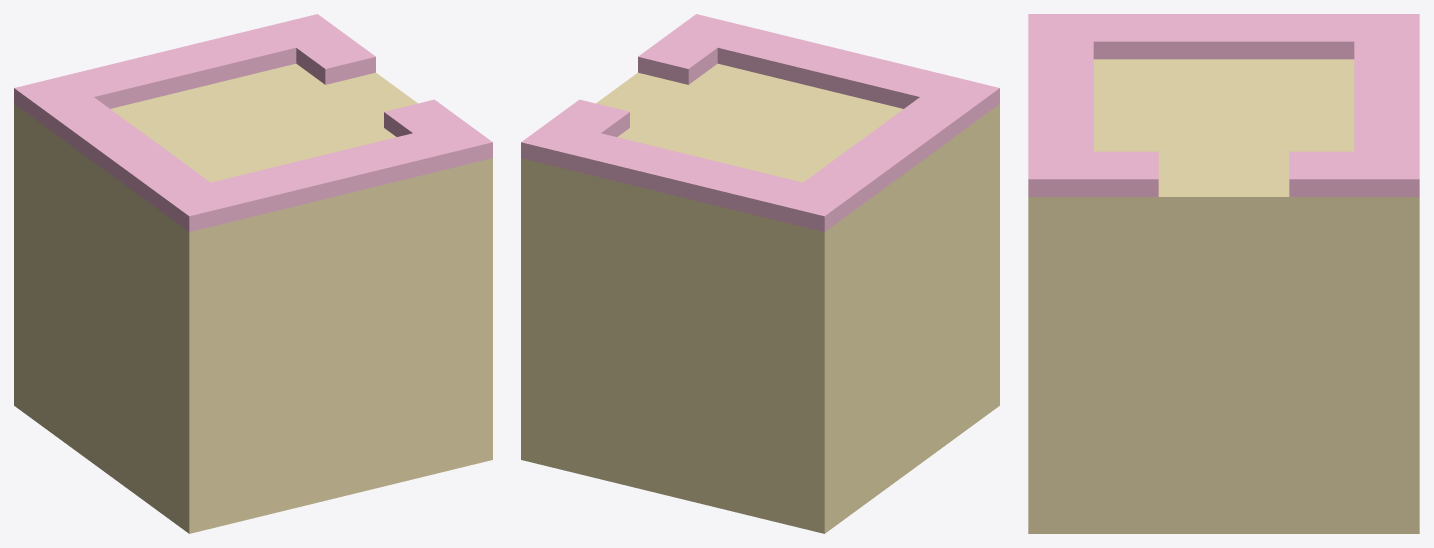
Rendered from CandylandStartCube.fbx.
The picture shows the model from 3 angles, left to right: view 1: azimuth 30°, elevation 25°; view 2: azimuth 150°, elevation 25°; view 3: azimuth 270°, elevation 25°; orthographic projection. The views are drawn at different scales.
Parts seen in each view (by area): view 1: CandylandStartCube; view 2: CandylandStartCube; view 3: CandylandStartCube.
Boxes of the visible parts, x1,y1,x2,y2 form: CandylandStartCube: (14, 14, 492, 533); CandylandStartCube: (521, 14, 999, 533); CandylandStartCube: (1028, 14, 1419, 533).
Bounding box in the file's own units: 1 × 1 × 1.
